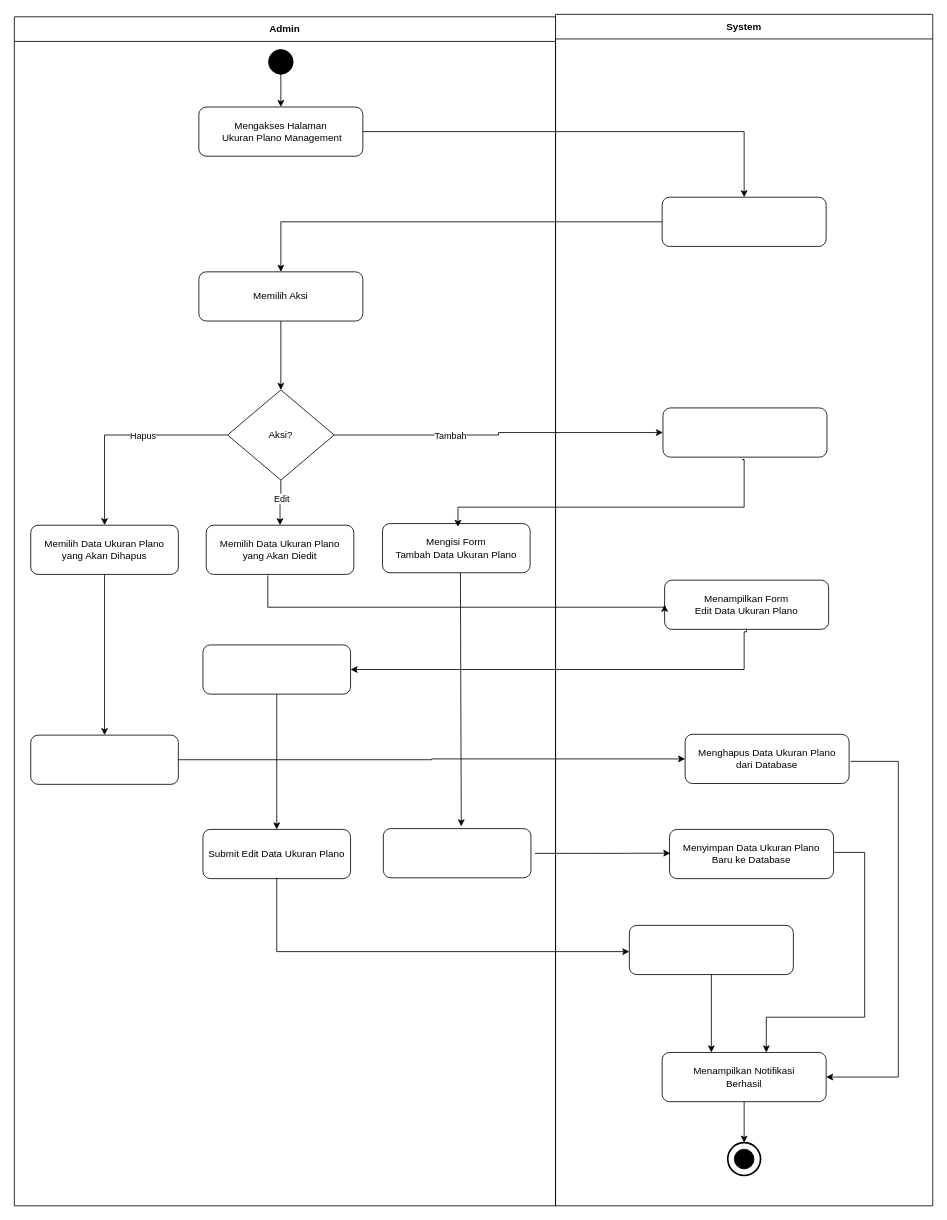
Some shapes in this 947 by 1220 pixel diagram are drawn without their labels. Here are the shapes that lost their labels. From the top down, the centre of each, then its label:
the point at 743,221: Menampilkan Daftar Data Ukuran Plano
the point at 744,432: Menampilkan Form Tambah Data Ukuran Plano
the point at 276,669: Mengubah Data pada Form Edit
the point at 104,759: Mengonfirmasi Penghapusan Data
the point at 457,853: Submit Tambah Data Ukuran Plano
the point at 711,950: Memperbarui Data Ukuran Plano di Database
